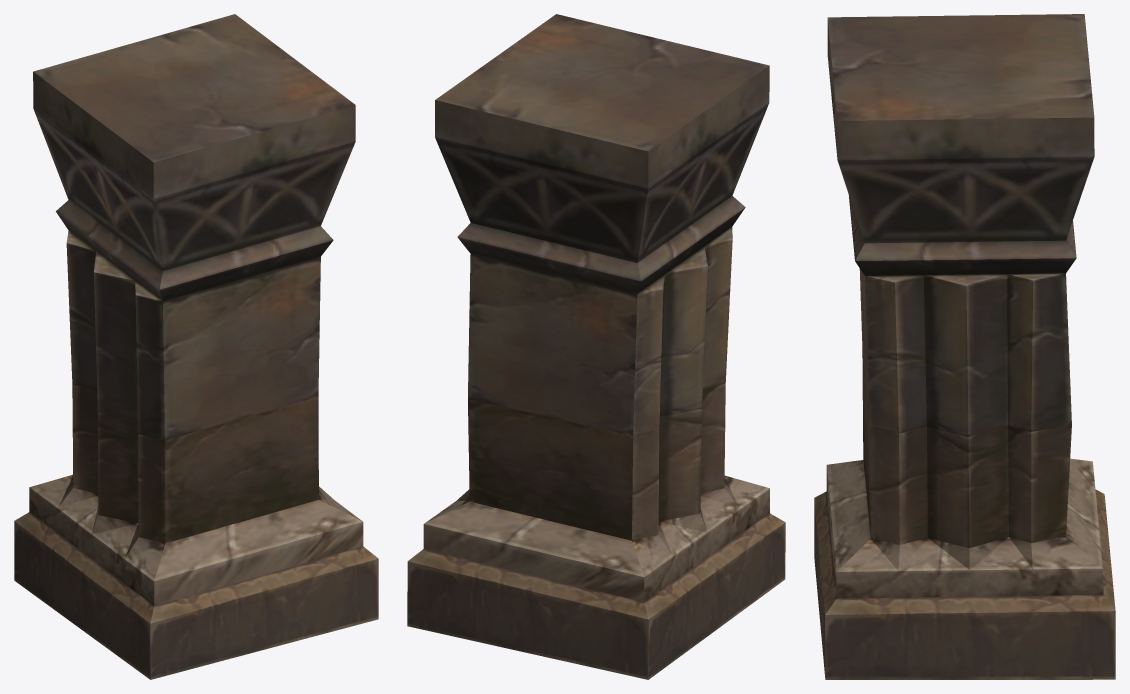
File: blsd_bszhuzi_03.FBX
3 renders of one model, left to right at view 1: azimuth 30°, elevation 25°; view 2: azimuth 150°, elevation 25°; view 3: azimuth 270°, elevation 25°, orthographic. The views are drawn at different scales.
Parts seen in each view (by area): view 1: blsd_bszhuzi_03; view 2: blsd_bszhuzi_03; view 3: blsd_bszhuzi_03.
Boxes of the visible parts, bbox=[...] form: blsd_bszhuzi_03: bbox=[14, 14, 378, 679]; blsd_bszhuzi_03: bbox=[407, 14, 785, 679]; blsd_bszhuzi_03: bbox=[814, 14, 1115, 679].
Size of the model in its own units: 152 by 159 by 322.
